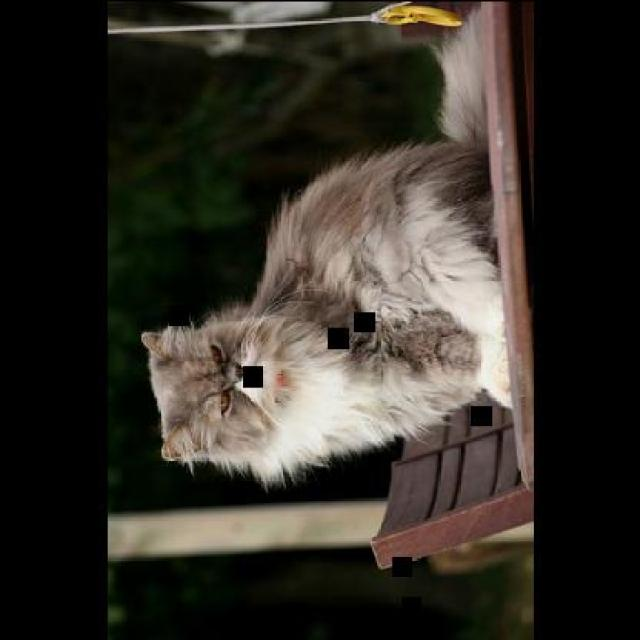unauthorized: (138, 0, 512, 491)
